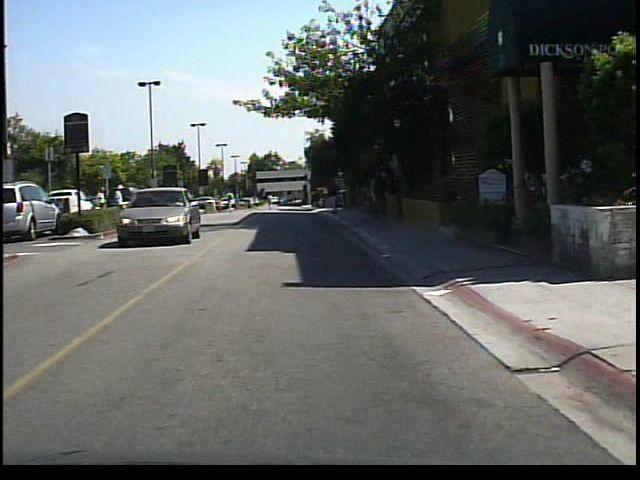person: (368, 164, 390, 223), (114, 181, 134, 229), (326, 173, 345, 218), (163, 178, 182, 223), (95, 185, 110, 226), (226, 188, 239, 215), (264, 192, 276, 214)
